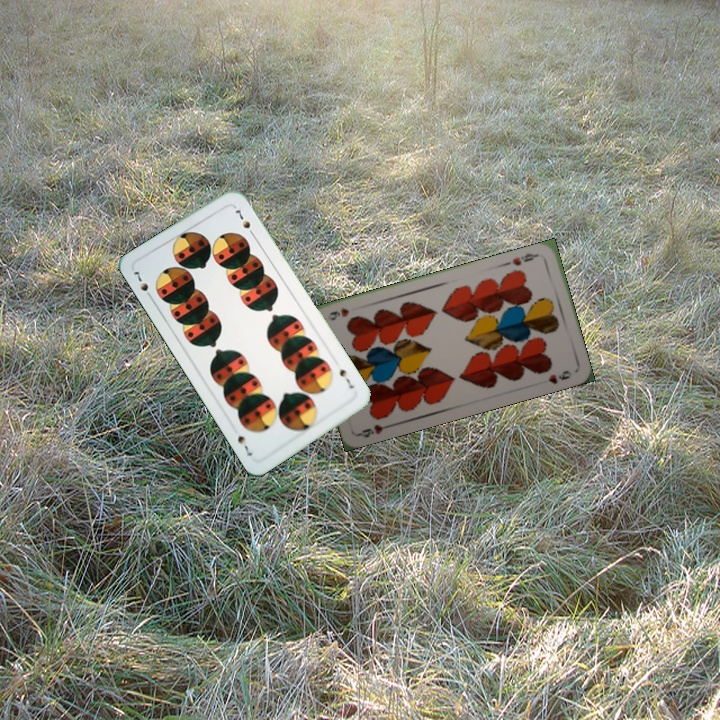H9: (355, 420, 395, 440), (503, 248, 542, 268)
S7: (130, 267, 155, 303), (335, 365, 357, 391)
